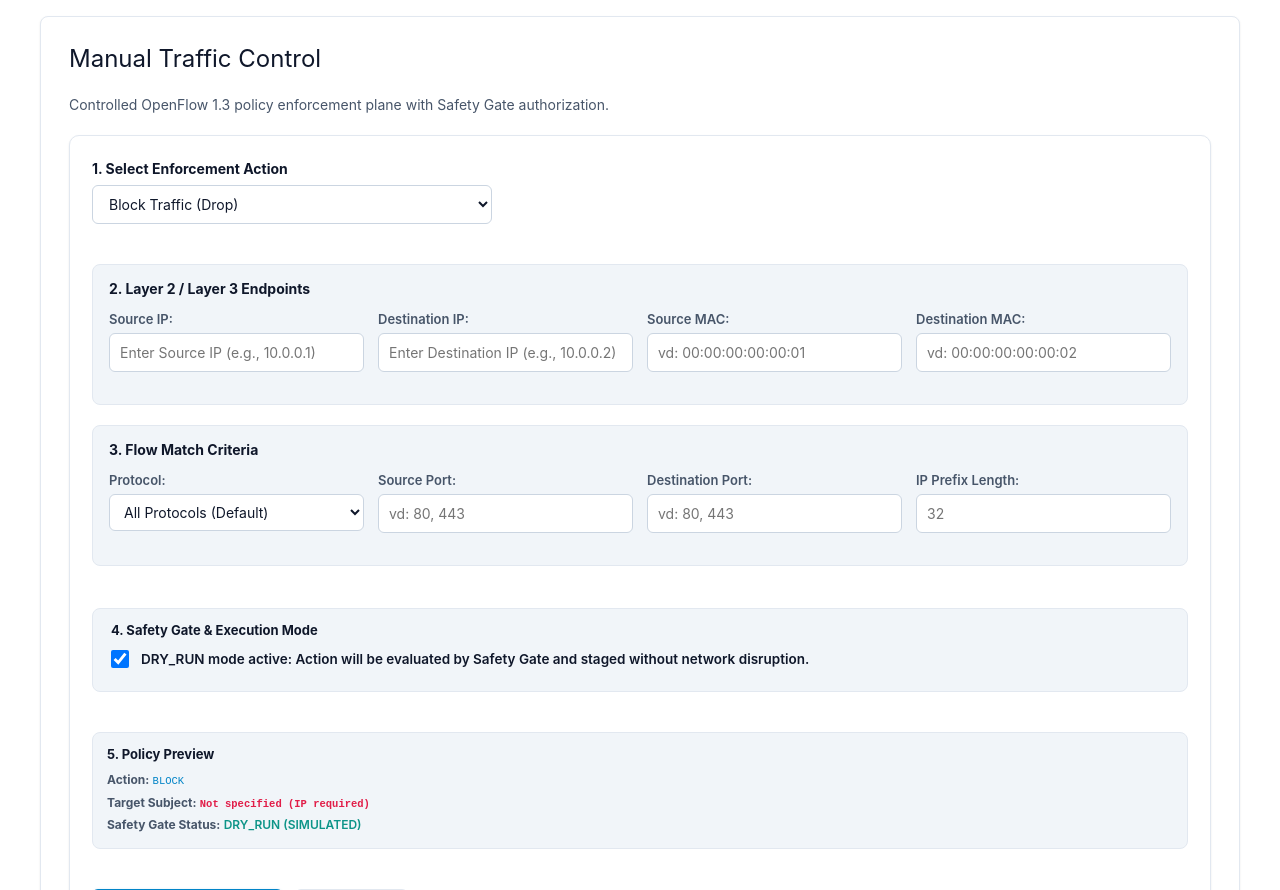
Test case: ManualTrafficControl 5-Step Execution Workflow › toggles DRY_RUN simulation mode and updates policy preview
This screenshot has width=1280, height=890.
Check: the text "DRY_RUN (SIMULATED)" is shown, box left=224, top=817, right=362, bottom=832
Note: Toggle DRY_RUN off
Click the checkbox at [120, 659], box left=111, top=650, right=129, bottom=668
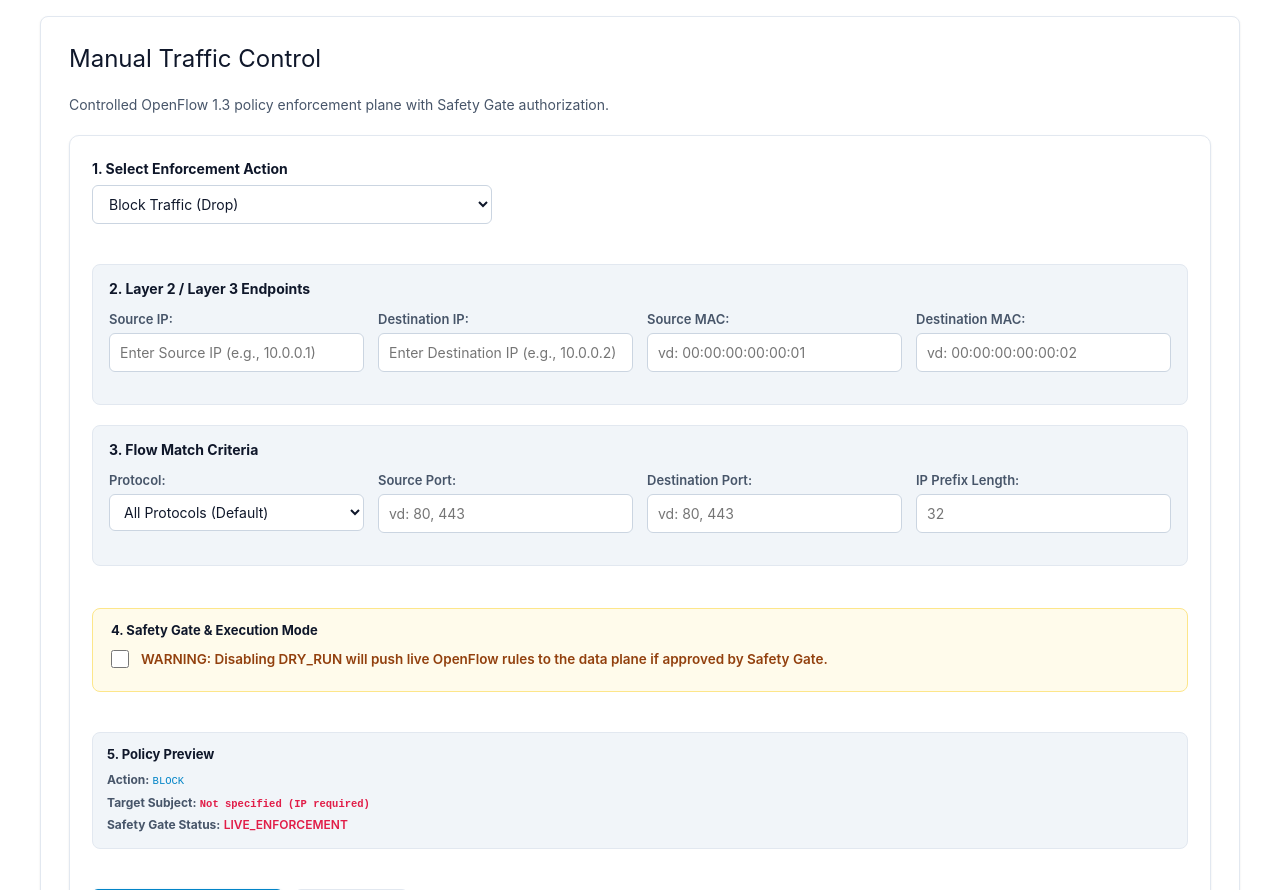
Check: the checkbox is not checked, box left=111, top=650, right=129, bottom=668
Check: the text "LIVE_ENFORCEMENT" is shown, box left=224, top=817, right=348, bottom=832
Check: the text "WARNING: Disabling DRY_RUN" is shown, box left=141, top=651, right=828, bottom=667
